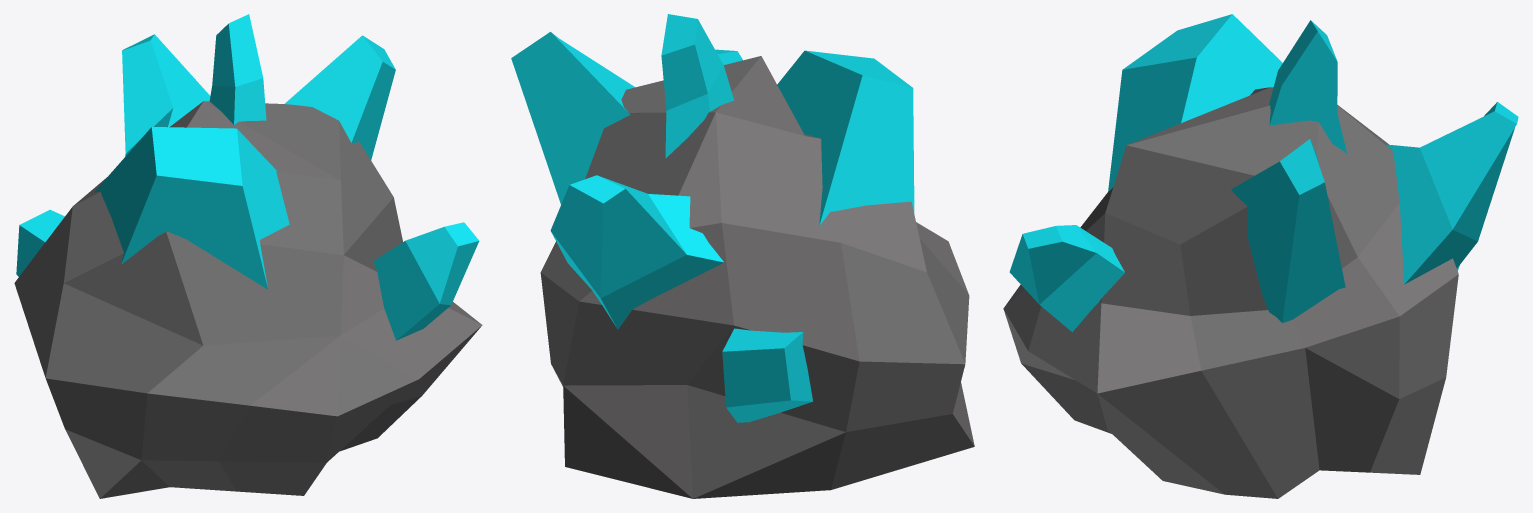
File: mesh_node_diamond.fbx
3 views of the same model, side by side, from view 1: azimuth 30°, elevation 25°; view 2: azimuth 150°, elevation 25°; view 3: azimuth 270°, elevation 25° (orthographic). The views are drawn at different scales.
Visible parts, largest first — view 1: mesh_node_diamond; view 2: mesh_node_diamond; view 3: mesh_node_diamond.
Boxes of the visible parts, box(x1,y1,x2,y2) form: mesh_node_diamond: box(14, 14, 482, 498); mesh_node_diamond: box(511, 14, 974, 498); mesh_node_diamond: box(1003, 14, 1518, 498).
Size of the model in its own units: 153 by 150 by 167.
